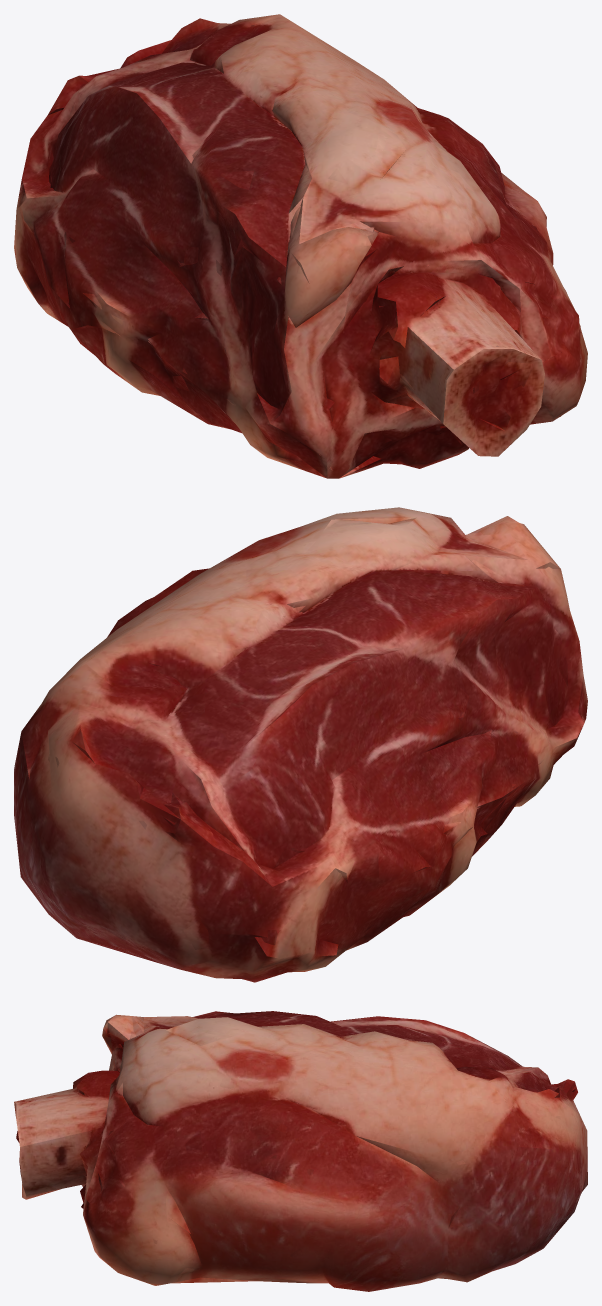
3 views of the same model, one above another, from view 1: azimuth 30°, elevation 25°; view 2: azimuth 150°, elevation 25°; view 3: azimuth 270°, elevation 25° (orthographic). The views are drawn at different scales.
Parts seen in each view (by area): view 1: mammoth-meat; view 2: mammoth-meat; view 3: mammoth-meat.
Boxes of the visible parts, box(x1,y1,x2,y2) form: mammoth-meat: box(14, 14, 587, 478); mammoth-meat: box(14, 507, 587, 982); mammoth-meat: box(14, 1011, 587, 1291).
Bounding box in the file's own units: 0.3263 × 0.2265 × 0.5481.
1 material, 1 textured.
